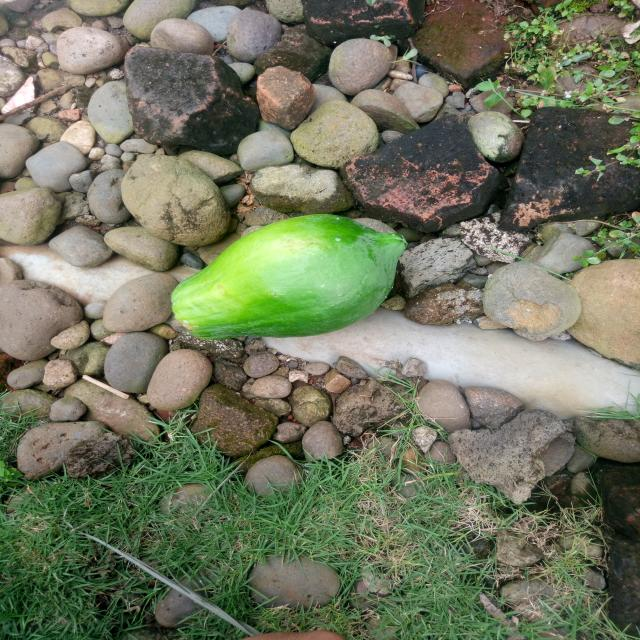Pepaya unrippen: (158, 208, 410, 339)
